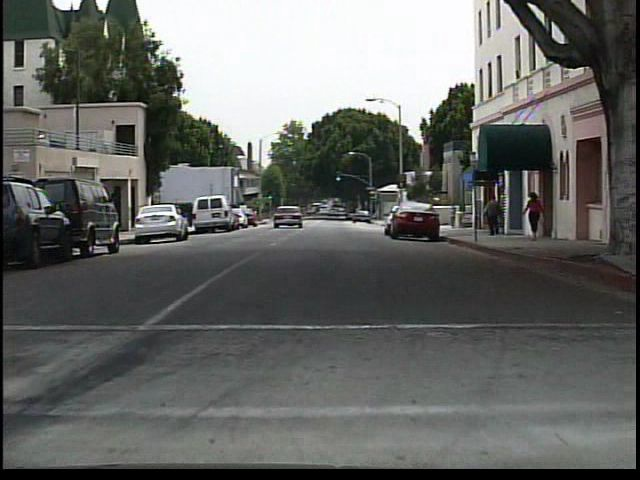person: (523, 186, 546, 243), (481, 192, 503, 239)
